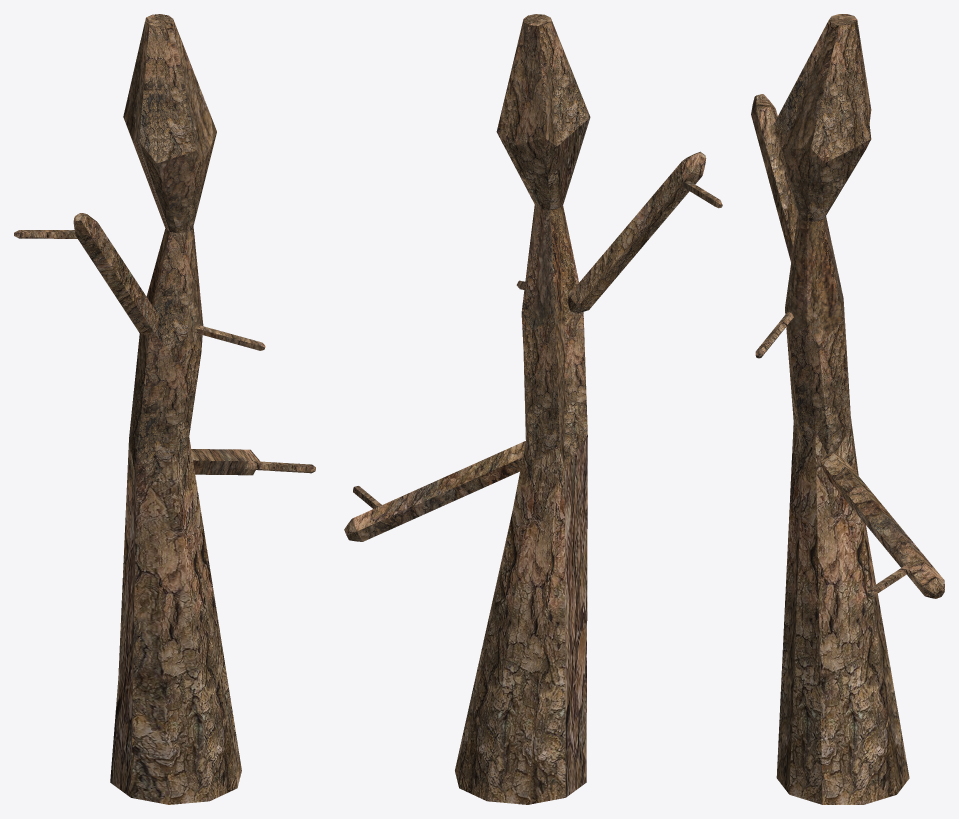
Rendered from humanoidtree_1.glb.
3 renders of one model, left to right at view 1: azimuth 30°, elevation 25°; view 2: azimuth 150°, elevation 25°; view 3: azimuth 270°, elevation 25°, orthographic.
Parts seen in each view (by area): view 1: tree1; view 2: tree1; view 3: tree1.
Part boxes in pixels (<box>): tree1: <box>14,14,315,804</box>; tree1: <box>344,14,722,804</box>; tree1: <box>751,14,944,804</box>.
Size of what is drawn, in the model's own units: 1.44 by 3.12 by 0.7298.
1 material, 1 textured.
